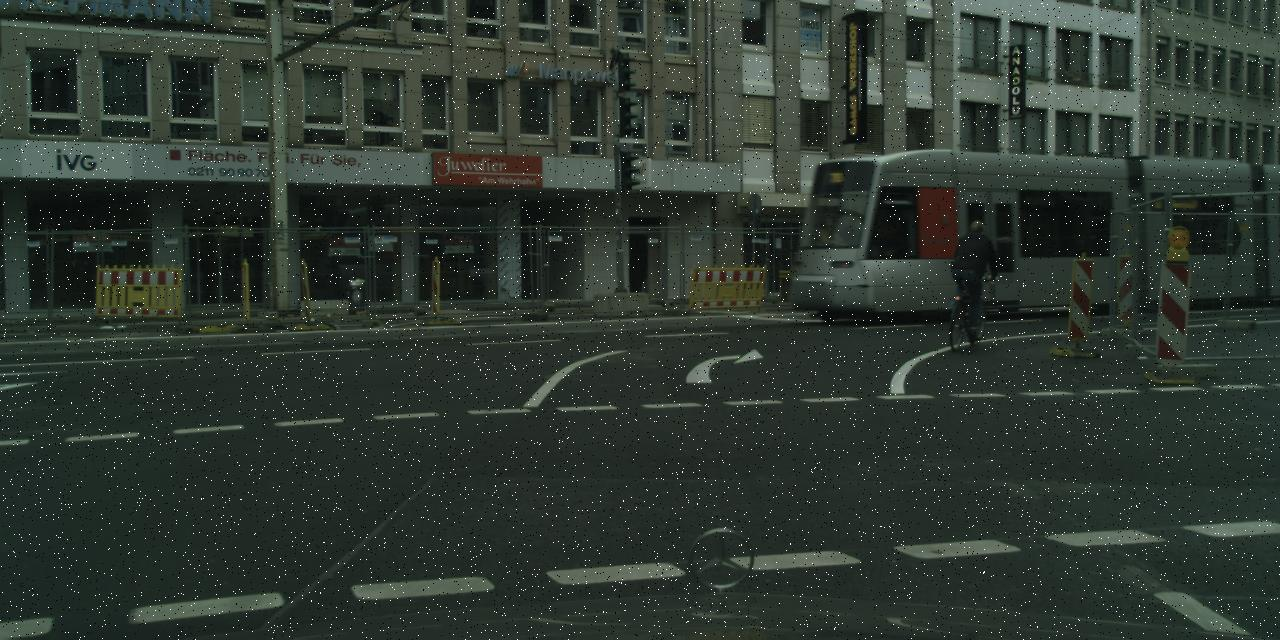ped: (947, 220, 991, 328)
